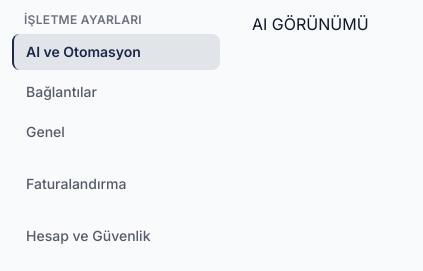
Test case: SettingsSections (UI) › clicking a left-nav item switches the visible panel
The image size is (423, 271).
Click the button "Hesap ve Güvenlik": (116, 236) x1=12 y1=218 x2=220 y2=254
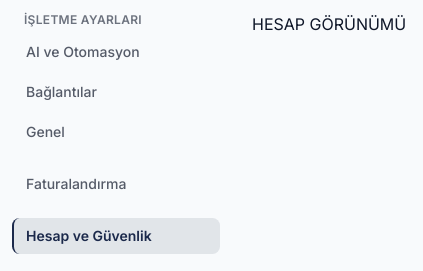
Expected: the element showing "HESAP GÖRÜNÜMÜ" is shown, x1=252 y1=14 x2=406 y2=34
